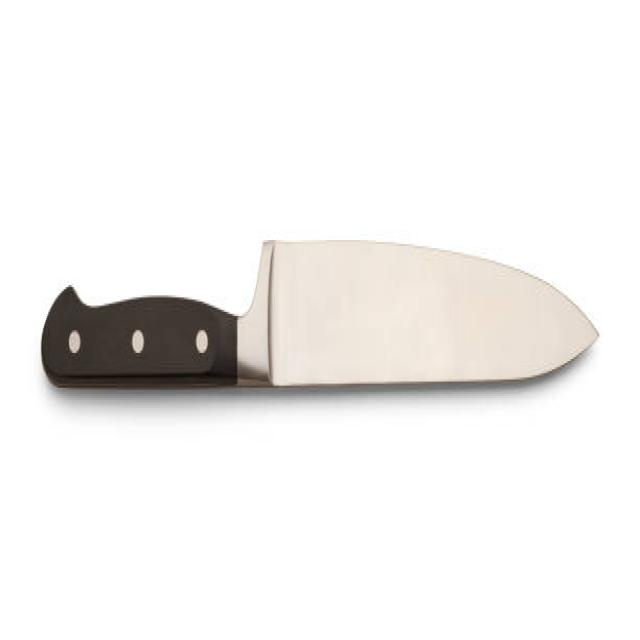knife: (35, 234, 606, 402)
